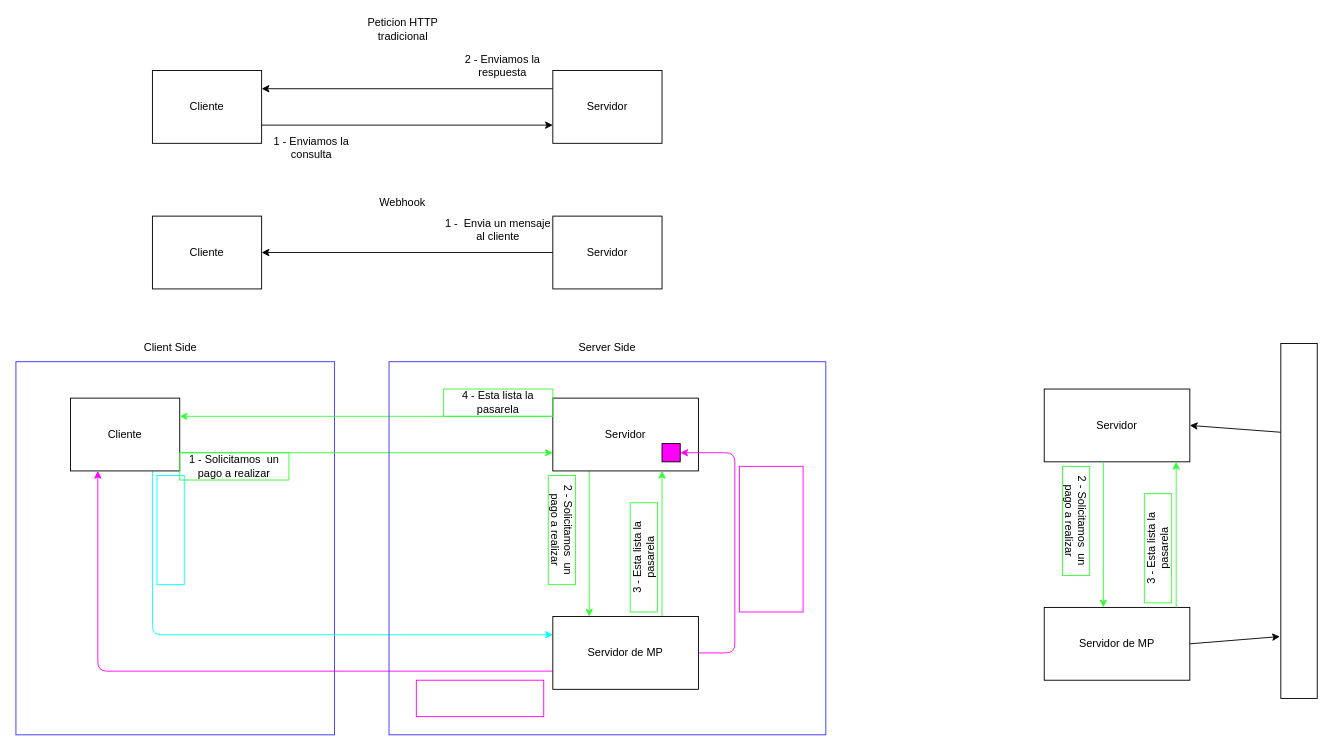
Some shapes in this 1333 by 751 pixel diagram are drawn without their labels. Here are the shapes that lost their labels. From the top down, the centre of each, then its label:
the point at 770,538: 6 -Se transmite de manera asincrona la respuest
the point at 1298,520: VSC
the point at 479,698: 7 - Redireccion (Opcional)
